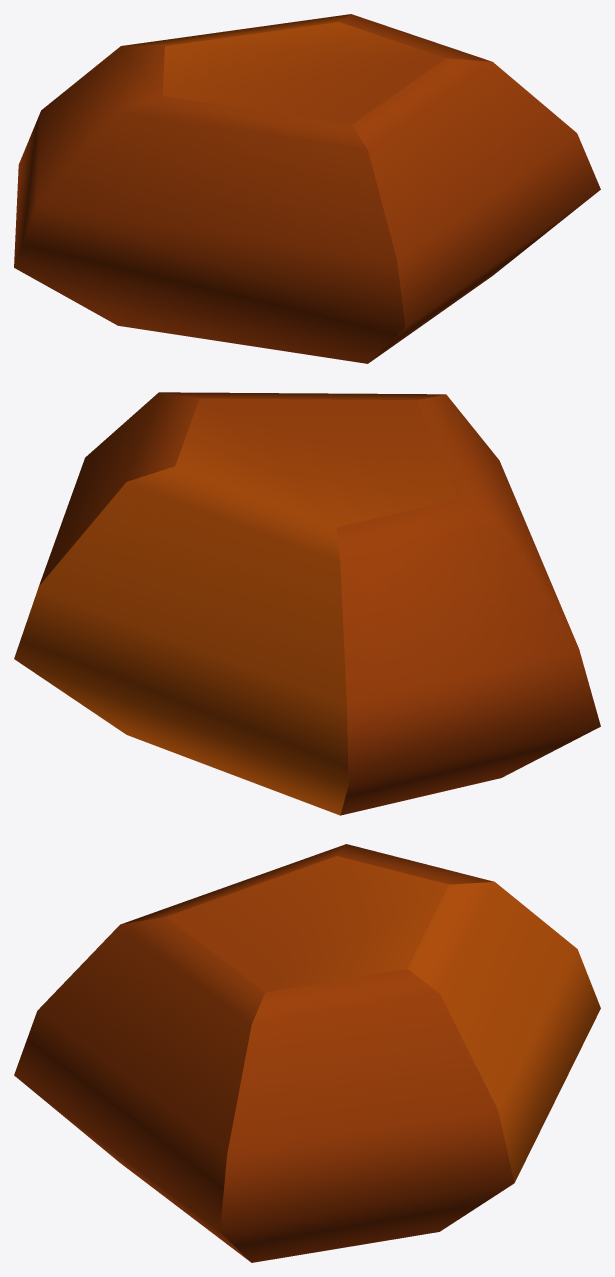
File: Desert_SmallRock02.fbx
3 renders of one model, top to bottom at view 1: azimuth 30°, elevation 25°; view 2: azimuth 150°, elevation 25°; view 3: azimuth 270°, elevation 25°, orthographic. The views are drawn at different scales.
Visible parts, largest first — view 1: Desert_SmallRock04:pCube2; view 2: Desert_SmallRock04:pCube2; view 3: Desert_SmallRock04:pCube2.
Boxes of the visible parts, x1,y1,x2,y2 form: Desert_SmallRock04:pCube2: [14, 14, 600, 363]; Desert_SmallRock04:pCube2: [14, 392, 600, 815]; Desert_SmallRock04:pCube2: [14, 844, 600, 1262].
Bounding box in the file's own units: 2.13 × 0.9035 × 1.87.
Materials: 1 (1 with a texture image).
